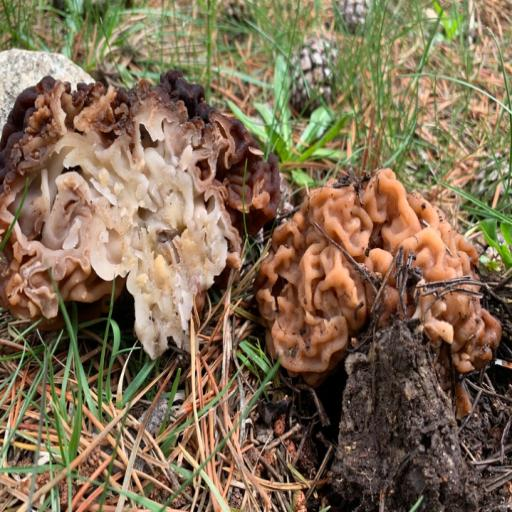False Morel: (6, 96, 264, 333), (265, 189, 495, 355)
